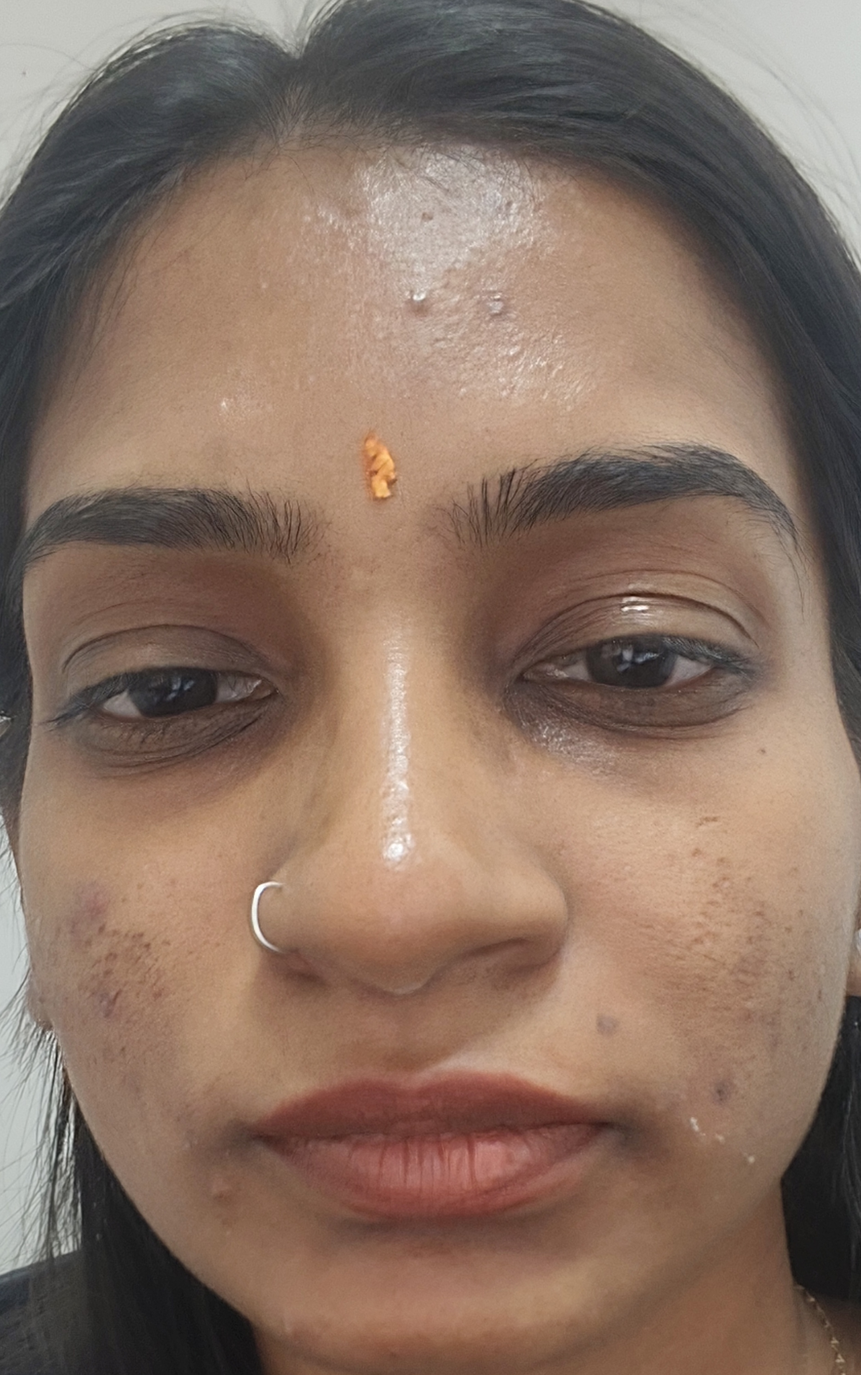papule: (193, 1158, 289, 1256), (377, 258, 461, 366), (71, 877, 128, 961)
